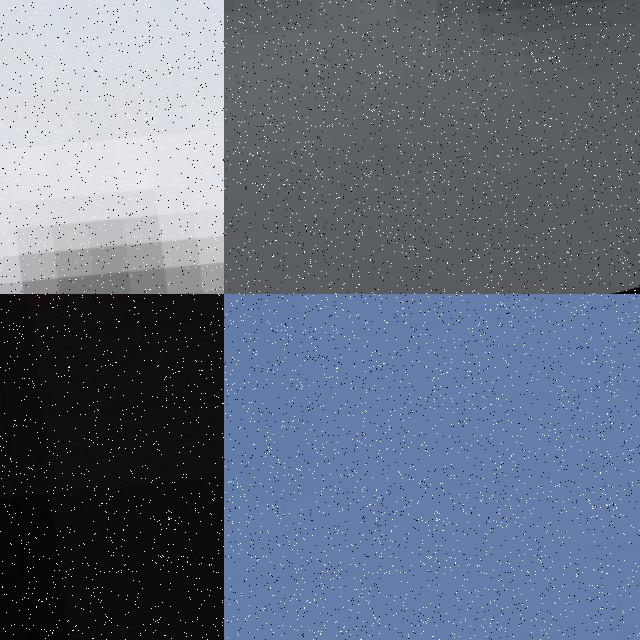drone: (224, 294, 640, 640), (224, 0, 640, 294), (0, 294, 224, 640), (0, 0, 224, 294)
